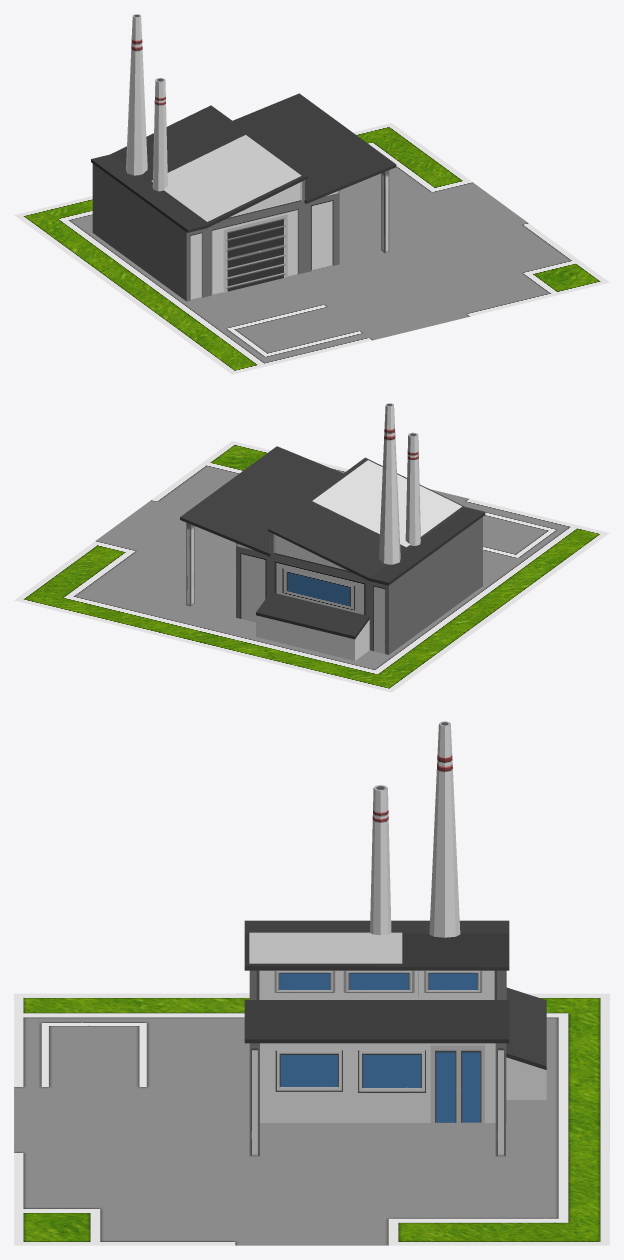
Rendered from Factory_Lvl_1.fbx.
3 renders of one model, top to bottom at view 1: azimuth 30°, elevation 25°; view 2: azimuth 150°, elevation 25°; view 3: azimuth 270°, elevation 25°, orthographic. The views are drawn at different scales.
Parts seen in each view (by area): view 1: Factory_BG, Factory_Lvl_1, Graffiti_001; view 2: Factory_Lvl_1, Factory_BG, Graffiti_001; view 3: Factory_BG, Factory_Lvl_1, Graffiti_001.
Boxes of the visible parts, x1,y1,x2,y2 form: Factory_BG: [14, 123, 609, 374]; Factory_Lvl_1: [91, 14, 396, 301]; Graffiti_001: [151, 135, 301, 221]; Factory_Lvl_1: [180, 403, 485, 660]; Factory_BG: [14, 441, 609, 692]; Graffiti_001: [312, 460, 461, 547]; Factory_BG: [14, 993, 609, 1245]; Factory_Lvl_1: [244, 721, 546, 1156]; Graffiti_001: [249, 932, 402, 963].
Size of the model in its own units: 2000 by 1154 by 2000.
